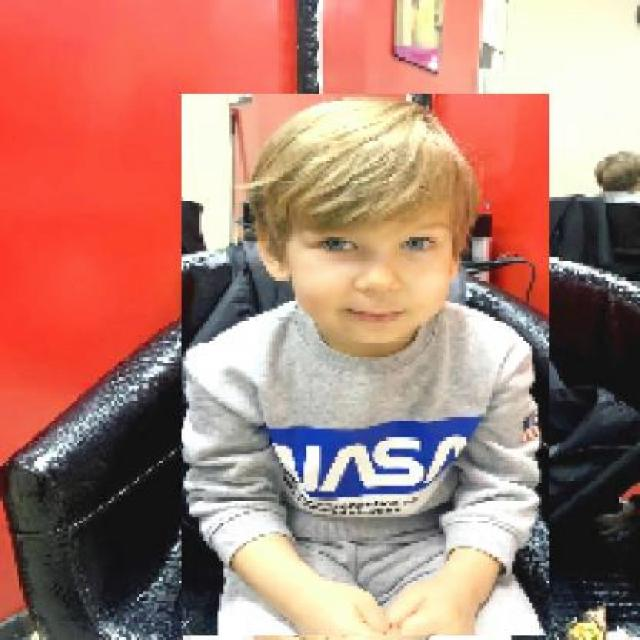child: (180, 94, 549, 637)
